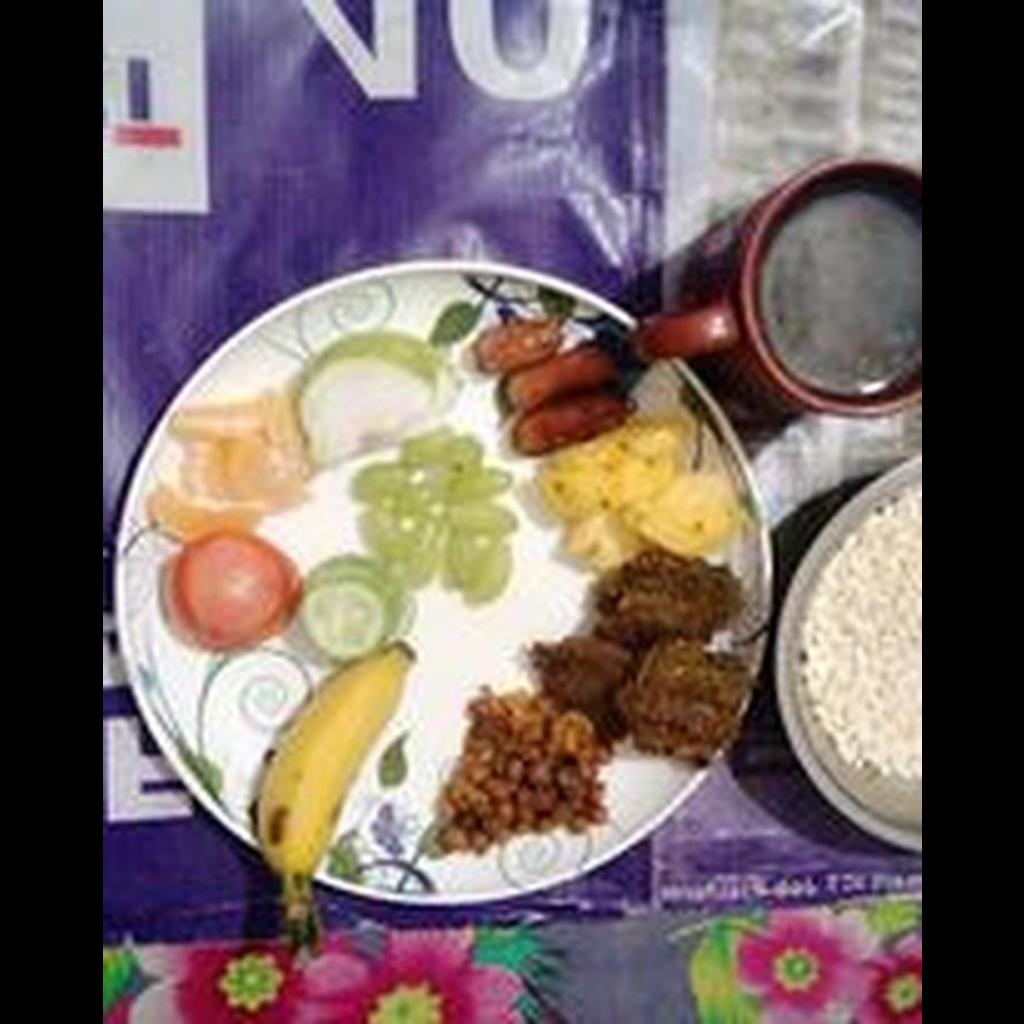banana: (254, 640, 415, 868)
chola: (432, 691, 608, 846)
dates: (475, 322, 633, 448)
grapes: (356, 425, 521, 603)
peyaju: (535, 554, 749, 761)
tomato: (156, 528, 297, 648)
